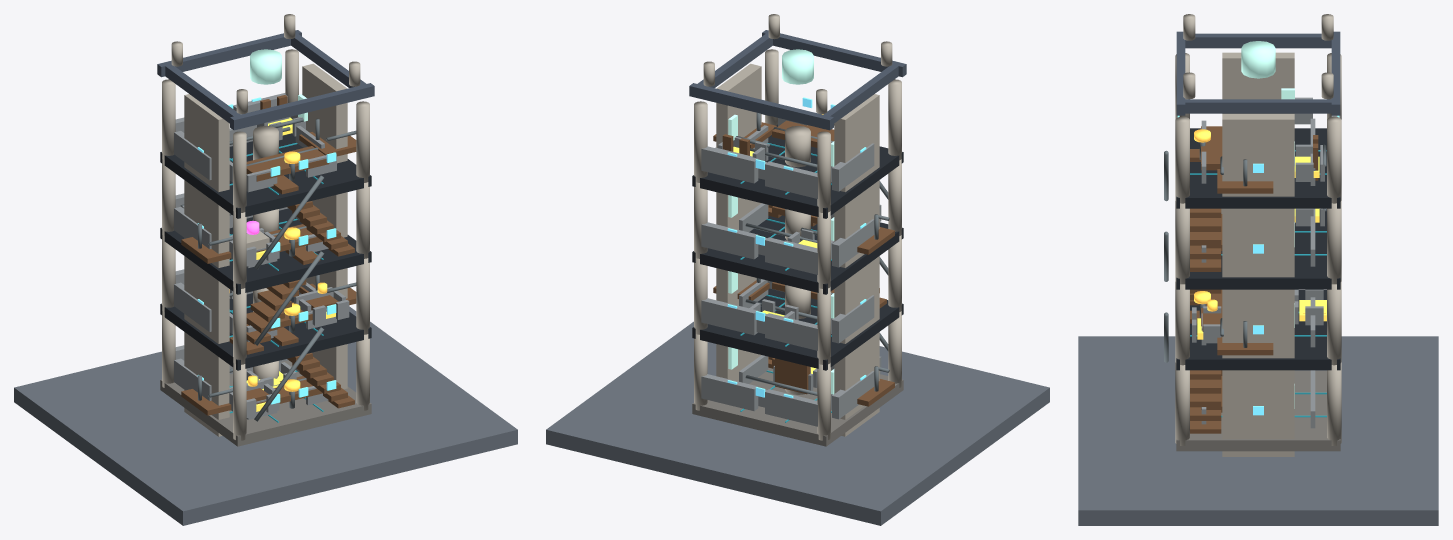
3 views of the same model, side by side, from view 1: azimuth 30°, elevation 25°; view 2: azimuth 150°, elevation 25°; view 3: azimuth 270°, elevation 25° (orthographic). The views are drawn at different scales.
Parts seen in each view (by area): view 1: ProfileGround.004, TowerButtress_visual_watch_tower_-1, TowerButtress_visual_watch_tower_1, BuildingFloor_4, BuildingFloor_1.001, BuildingFloor_2.001, BuildingFloor_3.001, TowerEaveSouth_visual_watch_tower, TowerEaveNorth_visual_watch_tower, TowerEaveWest_visual_watch_tower, TowerLanding_visual_watch_tower_3, Column_4_-1_-1 (+21 smaller); view 2: ProfileGround.004, TowerButtress_visual_watch_tower_-1, TowerButtress_visual_watch_tower_1, BuildingFloor_4, BuildingFloor_2.001, BuildingFloor_3.001, BuildingFloor_1.001, TowerEaveNorth_visual_watch_tower, TowerEaveSouth_visual_watch_tower, BackWall_4_1, BackWall_1_1.001, BackWall_3_1.001 (+28 smaller); view 3: ProfileGround.004, TowerButtress_visual_watch_tower_1, BuildingFloor_1.001, BuildingFloor_4, BuildingFloor_2.001, BuildingFloor_3.001, TowerButtress_visual_watch_tower_-1, TowerEaveEast_visual_watch_tower, TowerEaveWest_visual_watch_tower, Column_4_1_-1, Column_4_1_1, TowerBell_visual_watch_tower (+15 smaller).
Boxes of the visible parts, left/top/right/bottom form: ProfileGround.004: left=14, top=306, right=517, bottom=525; TowerButtress_visual_watch_tower_-1: left=184, top=94, right=229, bottom=436; TowerButtress_visual_watch_tower_1: left=302, top=63, right=347, bottom=389; BuildingFloor_4: left=160, top=133, right=371, bottom=218; BuildingFloor_1.001: left=160, top=360, right=371, bottom=446; BuildingFloor_2.001: left=160, top=293, right=371, bottom=370; BuildingFloor_3.001: left=160, top=208, right=371, bottom=294; TowerEaveSouth_visual_watch_tower: left=230, top=83, right=374, bottom=130; TowerEaveNorth_visual_watch_tower: left=157, top=30, right=301, bottom=77; TowerEaveWest_visual_watch_tower: left=165, top=64, right=240, bottom=123; TowerLanding_visual_watch_tower_3: left=246, top=146, right=329, bottom=181; Column_4_-1_-1: left=233, top=131, right=246, bottom=212; ProfileGround.004: left=546, top=321, right=1049, bottom=525; TowerButtress_visual_watch_tower_-1: left=834, top=94, right=879, bottom=436; TowerButtress_visual_watch_tower_1: left=716, top=63, right=761, bottom=381; BuildingFloor_4: left=692, top=124, right=903, bottom=218; BuildingFloor_2.001: left=692, top=288, right=903, bottom=370; BuildingFloor_3.001: left=692, top=215, right=903, bottom=294; BuildingFloor_1.001: left=692, top=367, right=903, bottom=446; TowerEaveNorth_visual_watch_tower: left=689, top=83, right=833, bottom=130; TowerEaveSouth_visual_watch_tower: left=762, top=30, right=906, bottom=77; BackWall_4_1: left=701, top=146, right=758, bottom=183; BackWall_1_1.001: left=701, top=374, right=758, bottom=411; BackWall_3_1.001: left=701, top=222, right=758, bottom=259; ProfileGround.004: left=1078, top=336, right=1438, bottom=525; TowerButtress_visual_watch_tower_1: left=1222, top=114, right=1294, bottom=456; BuildingFloor_1.001: left=1176, top=370, right=1340, bottom=451; BuildingFloor_4: left=1176, top=128, right=1340, bottom=208; BuildingFloor_2.001: left=1176, top=290, right=1340, bottom=370; BuildingFloor_3.001: left=1176, top=209, right=1340, bottom=289; TowerButtress_visual_watch_tower_-1: left=1222, top=52, right=1294, bottom=113; TowerEaveEast_visual_watch_tower: left=1184, top=99, right=1332, bottom=113; TowerEaveWest_visual_watch_tower: left=1185, top=33, right=1331, bottom=48; Column_4_1_-1: left=1175, top=116, right=1189, bottom=203; Column_4_1_1: left=1327, top=116, right=1341, bottom=203; TowerBell_visual_watch_tower: left=1241, top=41, right=1275, bottom=78.
Size of the model in its own units: 4.8 by 5.06 by 4.2.
